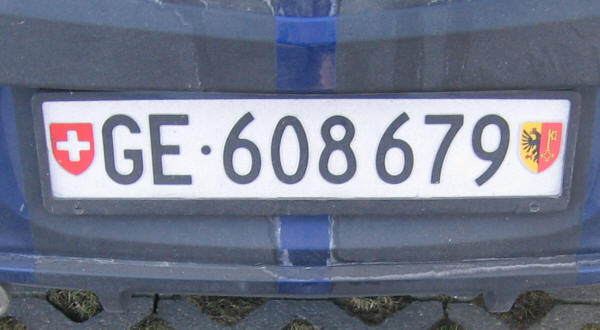license_plate: (41, 96, 571, 203)
